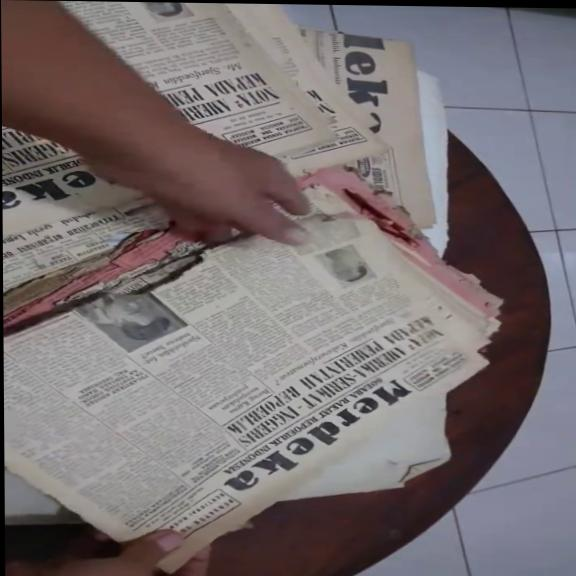Kertas: (3, 250, 451, 465), (65, 1, 379, 167), (313, 42, 415, 256), (2, 128, 166, 257)
